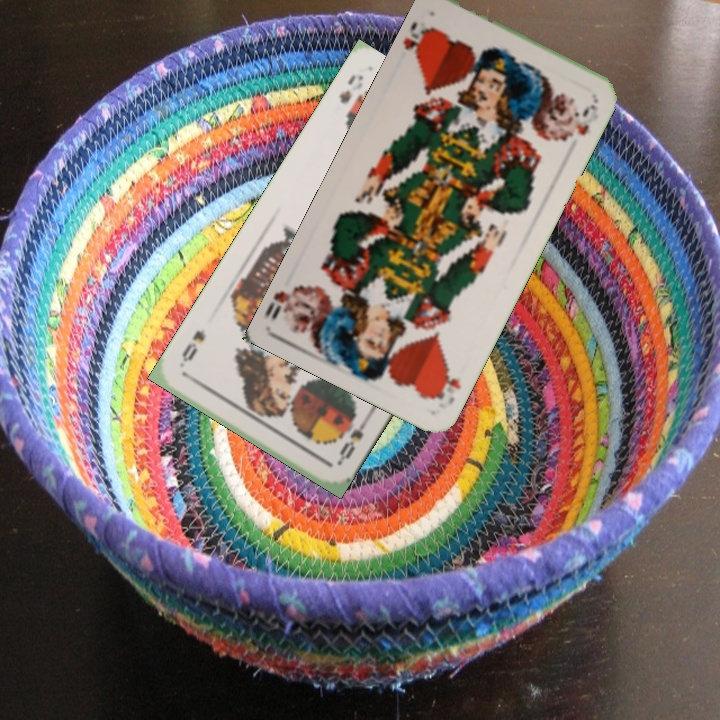HO: (399, 18, 438, 66), (428, 364, 463, 408)
SO: (333, 414, 371, 468), (334, 70, 366, 106)
